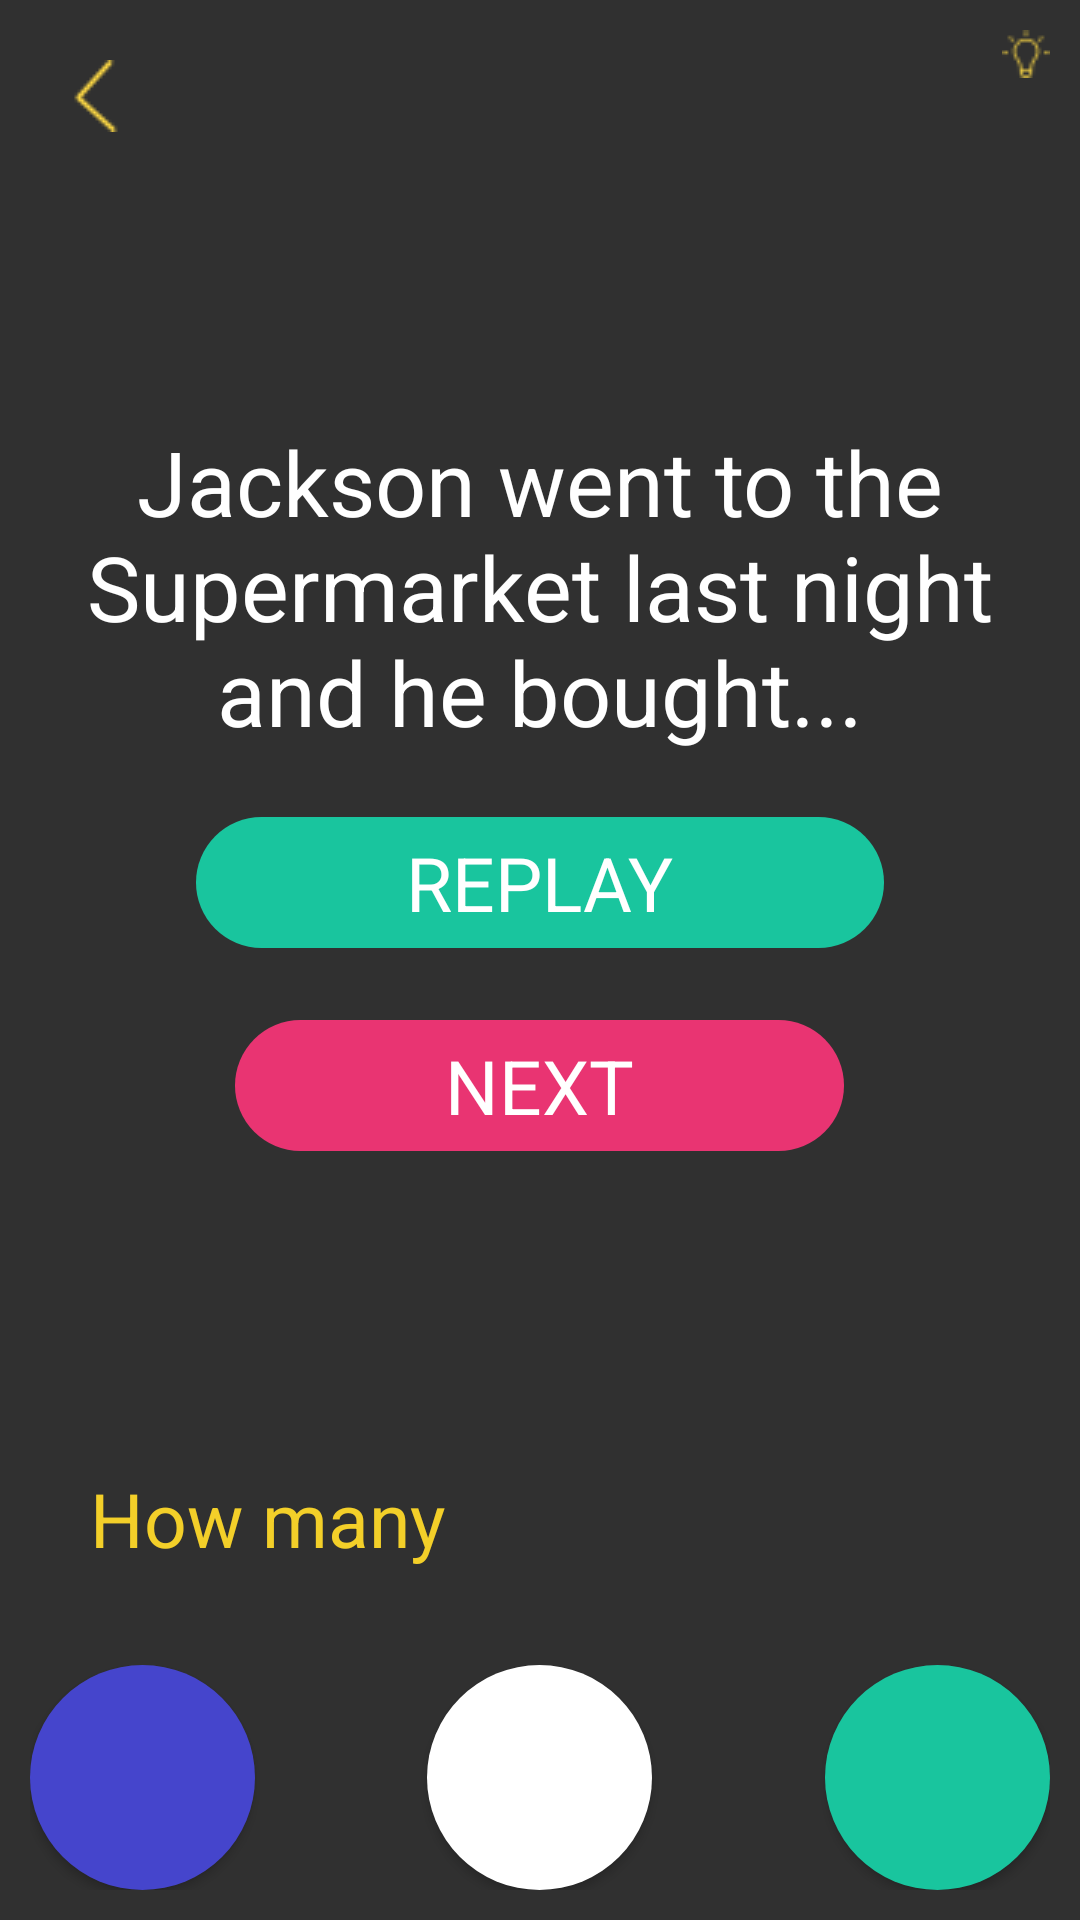

Named icons in this screenshot (1080w x 1920h) and their bounding boxes, (x1, y1, x2, y2):
arrow: (74, 60, 117, 132)
lightbulb: (1002, 30, 1050, 78)
